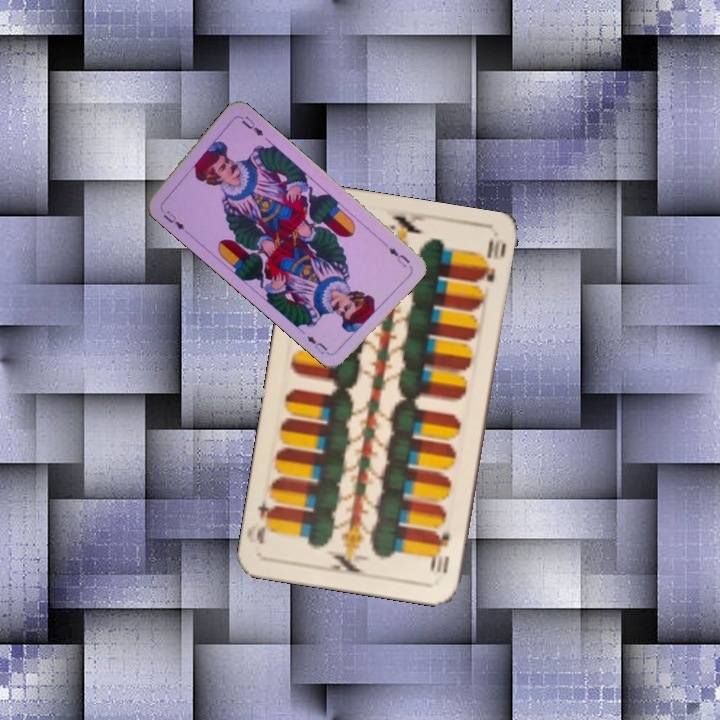E10: (429, 527, 452, 577)
EU: (159, 206, 191, 236), (385, 243, 412, 270)
